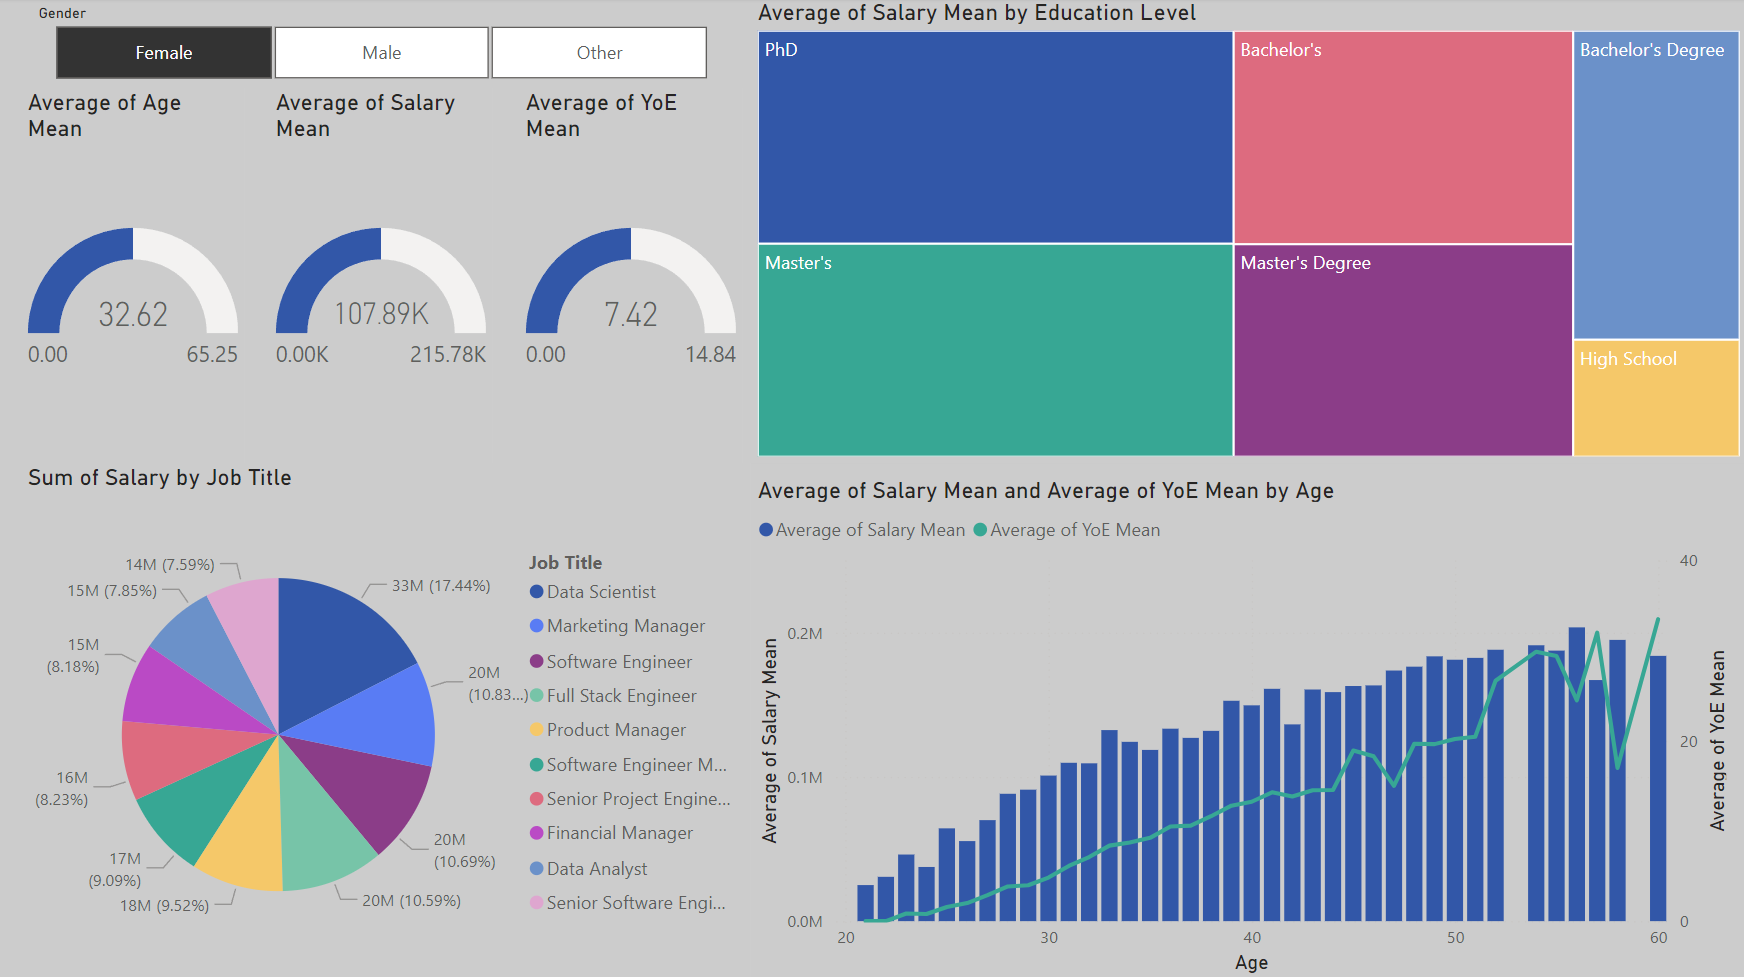

Layout of this report page (visuals, bound fields, positions):
{"tool":"powerbi","page":{"name":"Page 1","canvas":[1280,720],"ordinal":0},"visuals":[{"type":"lineClusteredColumnComboChart","fields":{"Category":["Salary Data.Age"],"Y2":["Avg(Statistics.YoE Mean)"],"Y":["Avg(Statistics.Salary Mean)"]},"box":[550.5,350.5,720.2,369.7],"z":0},{"type":"slicer","fields":{"Values":["Salary Data.Gender"]},"box":[15.1,0,527.2,65.7],"z":1000},{"type":"treemap","fields":{"Group":["Salary Data.Education Level"],"Values":["Avg(Statistics.Salary Mean)"]},"box":[550.4,0,729.9,341.3],"z":2000},{"type":"pieChart","fields":{"Category":["Salary Data.Job Title"],"Y":["Sum(Salary Data.Salary)"]},"box":[15.1,341,535.4,379.3],"z":3000},{"type":"gauge","fields":{"Y":["Avg(Statistics.Age Mean)"]},"box":[15.1,65.7,164.3,275.2],"z":3001},{"type":"gauge","fields":{"Y":["Avg(Statistics.Salary Mean)"]},"box":[197.2,65.7,164.3,275.2],"z":3002},{"type":"gauge","fields":{"Y":["Avg(Statistics.YoE Mean)"]},"box":[380.7,65.7,164.3,275.2],"z":3003}]}

Visuals, with their boxes in screenshot pixels (x1, y1, x2, y2), scaled from the page's 1280x720 canvas onto the 1744x977 screenshot:
lineClusteredColumnComboChart - Salary Data.Age x Avg(Statistics.YoE Mean): 750,476,1731,976
slicer - Salary Data.Gender: 21,0,739,89
treemap - Salary Data.Education Level x Avg(Statistics.Salary Mean): 750,0,1743,463
pieChart - Salary Data.Job Title x Sum(Salary Data.Salary): 21,463,750,976
gauge - Avg(Statistics.Age Mean): 21,89,244,463
gauge - Avg(Statistics.Salary Mean): 269,89,493,463
gauge - Avg(Statistics.YoE Mean): 519,89,743,463
